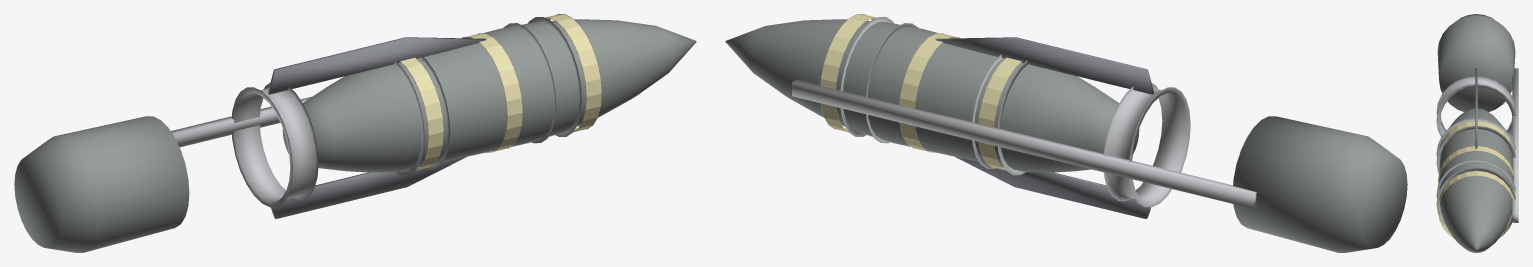
The model's file is US_SLBM_Trident_D5LE_LOD1.fbx.
3 views of the same model, side by side, from view 1: azimuth 30°, elevation 25°; view 2: azimuth 150°, elevation 25°; view 3: azimuth 270°, elevation 25° (orthographic). The views are drawn at different scales.
Parts seen in each view (by area): view 1: WPN_US_SLBM_Trident_D5LE_LOD1_Body, WPN_US_SLBM_Trident_D5LE_LOD1_Tail, WPN_US_SLBM_Trident_D5LE_LOD1_Detail, WPN_US_SLBM_Trident_D5LE_LOD1_Marking; view 2: WPN_US_SLBM_Trident_D5LE_LOD1_Body, WPN_US_SLBM_Trident_D5LE_LOD1_Detail, WPN_US_SLBM_Trident_D5LE_LOD1_Tail, WPN_US_SLBM_Trident_D5LE_LOD1_Marking; view 3: WPN_US_SLBM_Trident_D5LE_LOD1_Body, WPN_US_SLBM_Trident_D5LE_LOD1_Tail, WPN_US_SLBM_Trident_D5LE_LOD1_Detail, WPN_US_SLBM_Trident_D5LE_LOD1_Marking.
Part boxes in pixels (box(x1,y1,x2,y2)): WPN_US_SLBM_Trident_D5LE_LOD1_Body: box(282, 19, 696, 172); WPN_US_SLBM_Trident_D5LE_LOD1_Tail: box(14, 116, 189, 252); WPN_US_SLBM_Trident_D5LE_LOD1_Detail: box(171, 17, 581, 218); WPN_US_SLBM_Trident_D5LE_LOD1_Marking: box(400, 14, 601, 170); WPN_US_SLBM_Trident_D5LE_LOD1_Body: box(725, 19, 1139, 172); WPN_US_SLBM_Trident_D5LE_LOD1_Detail: box(792, 17, 1256, 218); WPN_US_SLBM_Trident_D5LE_LOD1_Tail: box(1233, 116, 1407, 252); WPN_US_SLBM_Trident_D5LE_LOD1_Marking: box(820, 14, 1021, 170); WPN_US_SLBM_Trident_D5LE_LOD1_Body: box(1438, 108, 1513, 252); WPN_US_SLBM_Trident_D5LE_LOD1_Tail: box(1437, 14, 1515, 111); WPN_US_SLBM_Trident_D5LE_LOD1_Detail: box(1436, 68, 1518, 226); WPN_US_SLBM_Trident_D5LE_LOD1_Marking: box(1438, 121, 1514, 238).
Bounding box in the file's own units: 13.6 × 2.27 × 2.93.
